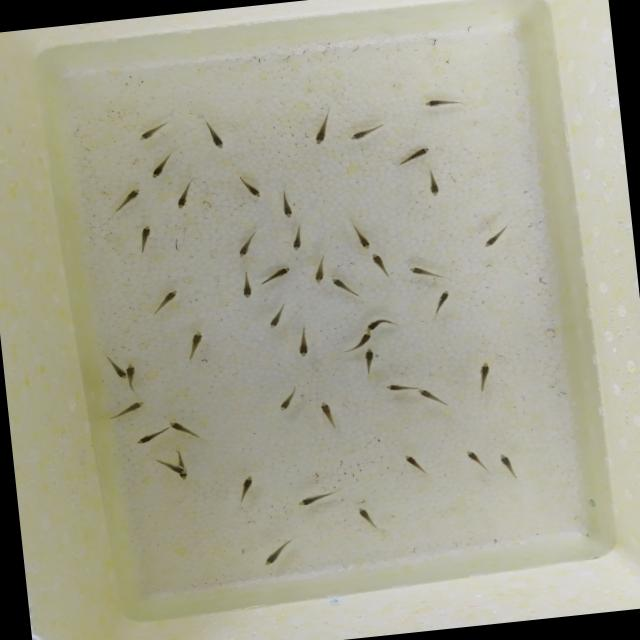fingerling: (340, 118, 394, 146), (418, 88, 472, 115), (229, 226, 267, 262), (228, 470, 264, 508), (127, 118, 174, 147), (198, 116, 232, 156), (106, 184, 146, 218), (127, 219, 161, 259), (256, 536, 296, 570), (102, 396, 152, 423), (386, 144, 434, 172), (304, 113, 338, 152), (179, 326, 212, 366), (144, 284, 184, 317), (422, 286, 460, 320), (267, 383, 306, 416), (288, 322, 319, 362), (468, 355, 498, 396), (144, 148, 178, 184), (403, 259, 450, 285), (476, 220, 514, 252), (167, 412, 205, 444), (291, 486, 346, 508), (351, 498, 384, 534), (418, 168, 449, 205), (363, 248, 396, 282), (272, 183, 300, 223), (234, 168, 266, 202), (398, 447, 432, 479), (259, 262, 297, 290), (260, 300, 292, 333), (312, 397, 342, 432), (459, 442, 491, 474), (493, 448, 523, 482), (329, 273, 364, 302), (233, 266, 260, 302), (128, 425, 169, 448), (348, 220, 376, 253), (170, 180, 197, 214), (148, 456, 189, 478), (339, 330, 378, 352), (284, 222, 309, 256), (414, 384, 448, 409), (360, 310, 400, 330), (358, 344, 381, 378), (104, 349, 126, 383), (308, 255, 332, 286), (124, 360, 144, 392), (380, 378, 412, 395)
